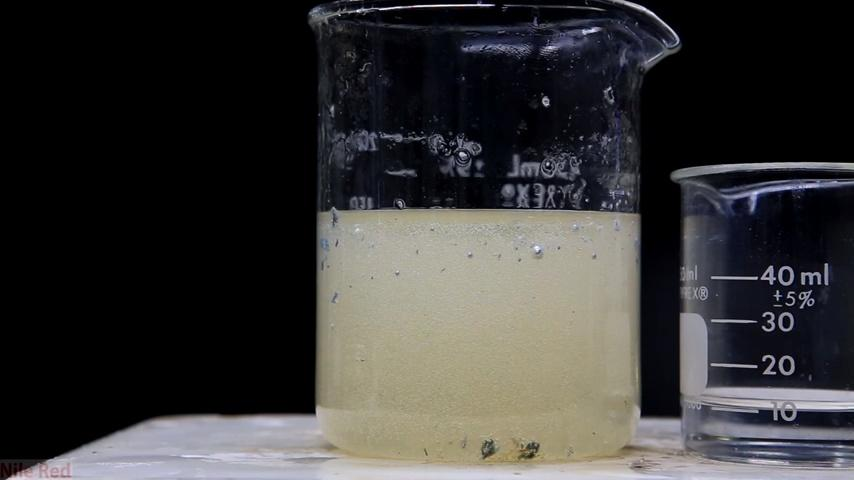Beaker: (301, 17, 669, 453), (673, 152, 849, 470)
